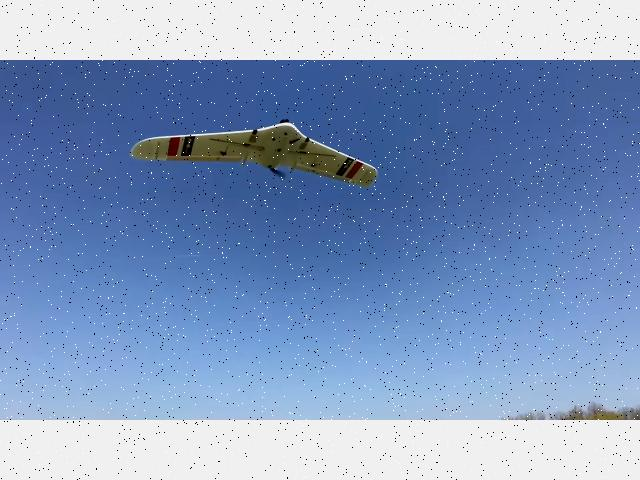Anti-Drone: (130, 118, 380, 188)
